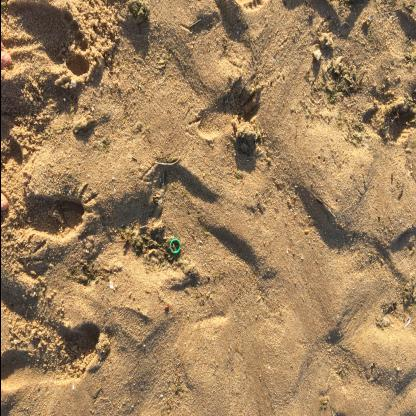plastik: (169, 238, 180, 254)
